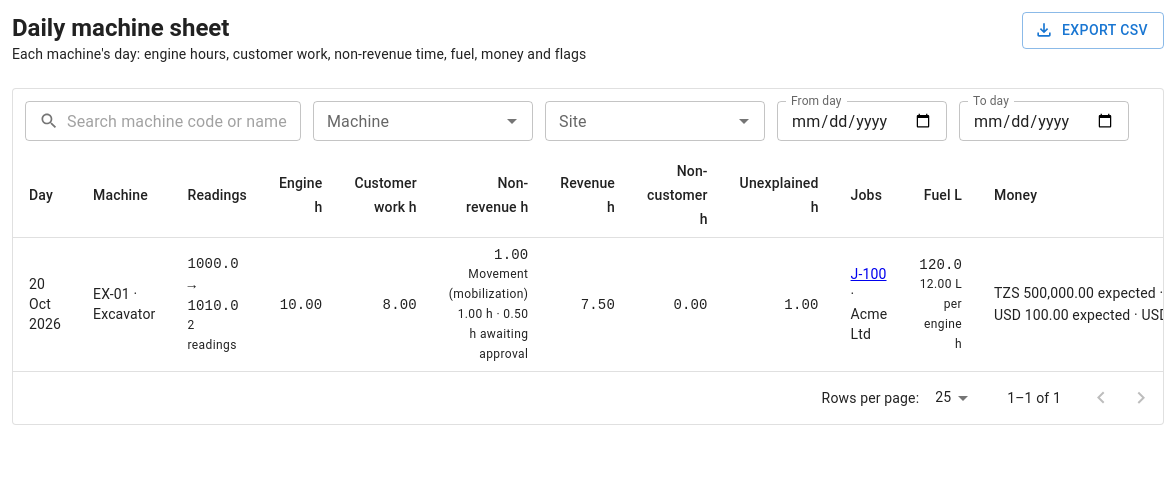
Test case: Daily machine sheet › refuses a range longer than 93 days
Expected: the table is shown, [13, 153, 1163, 372]
In the date field labelled "From day": (862,121) [777, 101, 947, 141], type "2026-01-01"
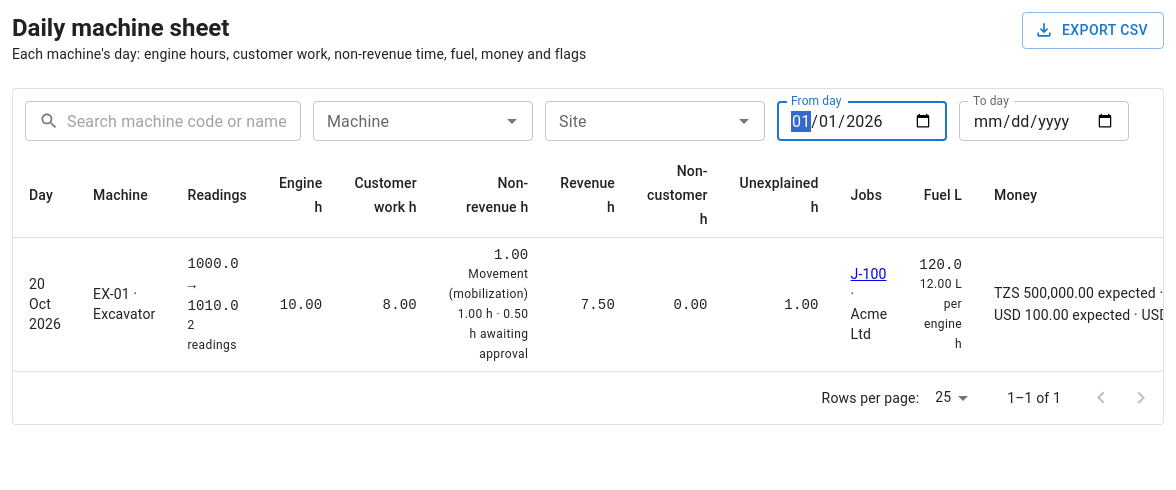
In the date field labelled "To day": (1044,121) [959, 101, 1129, 141], type "2026-06-01"
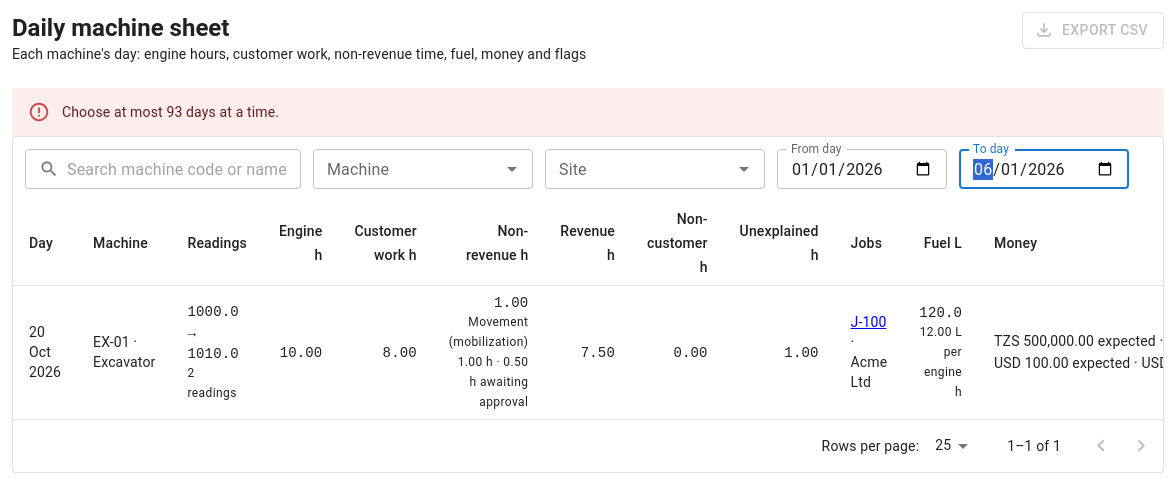
Now the text "Choose at most 93 days at a time." is shown, box [62, 104, 279, 120]
Now the button "Export CSV" is disabled, box [1022, 12, 1164, 48]
